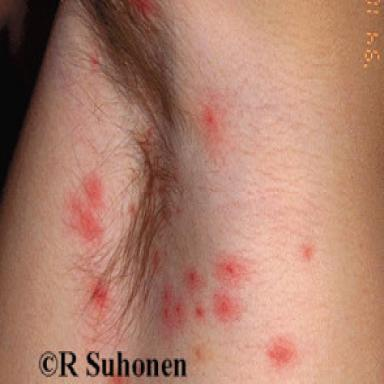Molluscum-Contagiosum: (69, 174, 104, 240), (215, 256, 246, 287), (163, 287, 186, 327), (214, 292, 241, 321), (267, 341, 296, 366), (184, 267, 206, 292), (91, 281, 110, 305), (140, 123, 156, 147), (202, 106, 217, 131), (303, 246, 313, 260), (127, 202, 137, 215), (153, 250, 160, 268), (195, 307, 204, 318), (91, 54, 98, 63)
